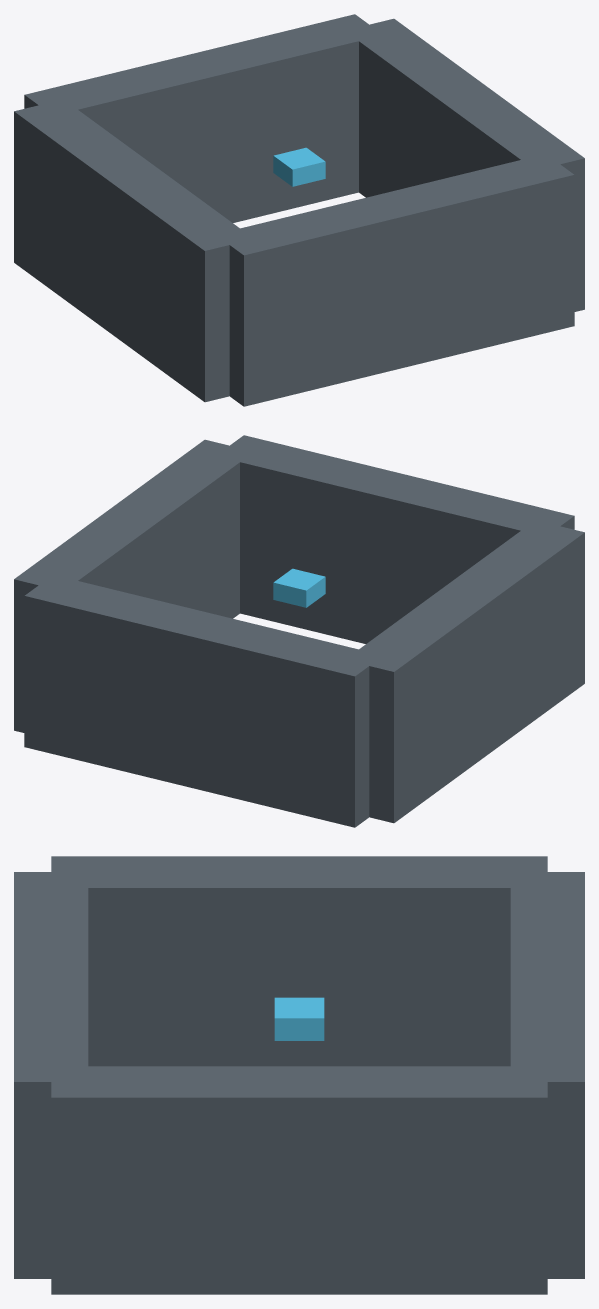
Rendered from optic.gltf.
3 views of the same model, one above another, from view 1: azimuth 30°, elevation 25°; view 2: azimuth 150°, elevation 25°; view 3: azimuth 270°, elevation 25° (orthographic). The views are drawn at different scales.
Bounding box in the file's own units: 0.184 × 0.07 × 0.184.
